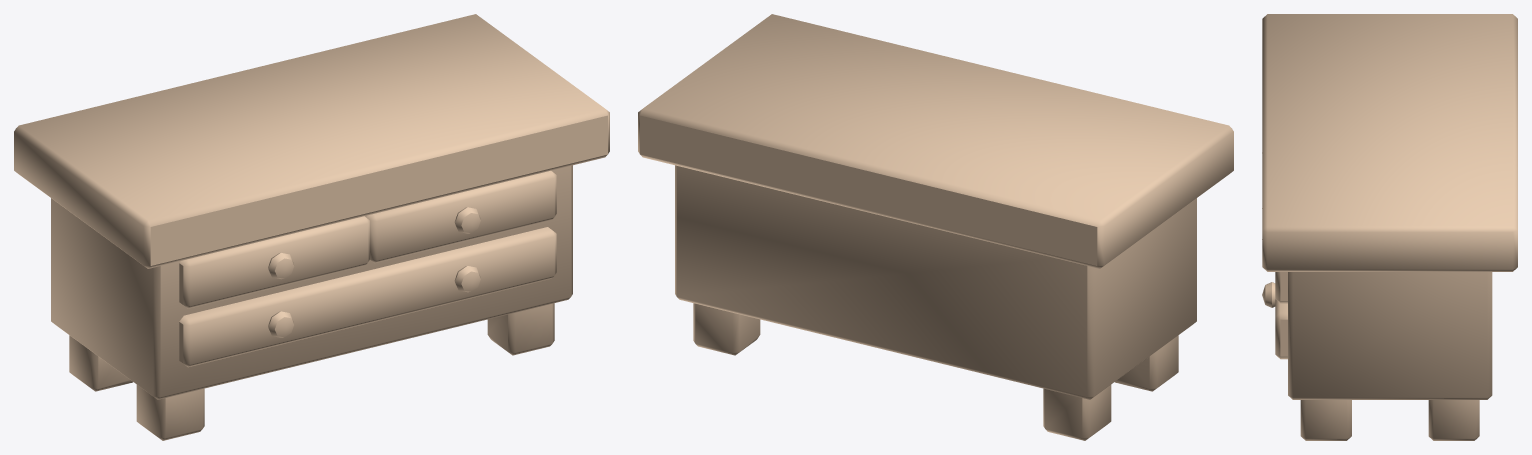
The model's file is cs-07-tv-stand.glb.
3 renders of one model, left to right at view 1: azimuth 30°, elevation 25°; view 2: azimuth 150°, elevation 25°; view 3: azimuth 270°, elevation 25°, orthographic. The views are drawn at different scales.
Visible parts, largest first — view 1: cabinet_medium; view 2: cabinet_medium; view 3: cabinet_medium.
Boxes of the visible parts, box(x1,y1,x2,y2) form: cabinet_medium: box(14, 14, 609, 440); cabinet_medium: box(638, 14, 1233, 440); cabinet_medium: box(1262, 14, 1517, 440).
Size of the model in its own units: 1.76 by 0.88 by 0.8814.
